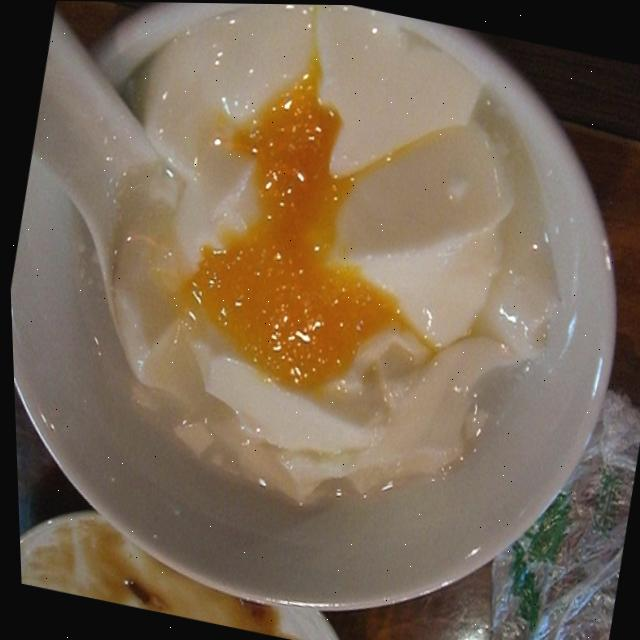米饭主食: (13, 57, 607, 633)
